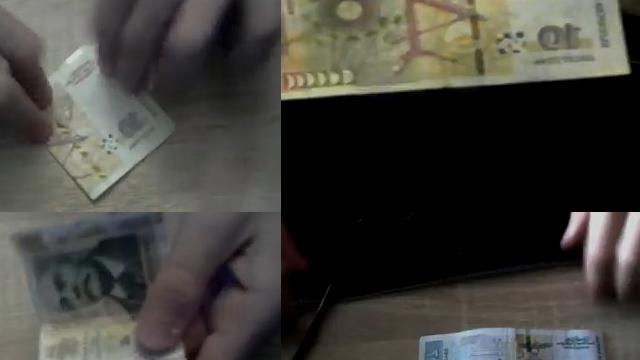10leva: (281, 0, 630, 104), (15, 212, 188, 360), (48, 45, 177, 204)
20leva: (420, 328, 520, 360)
